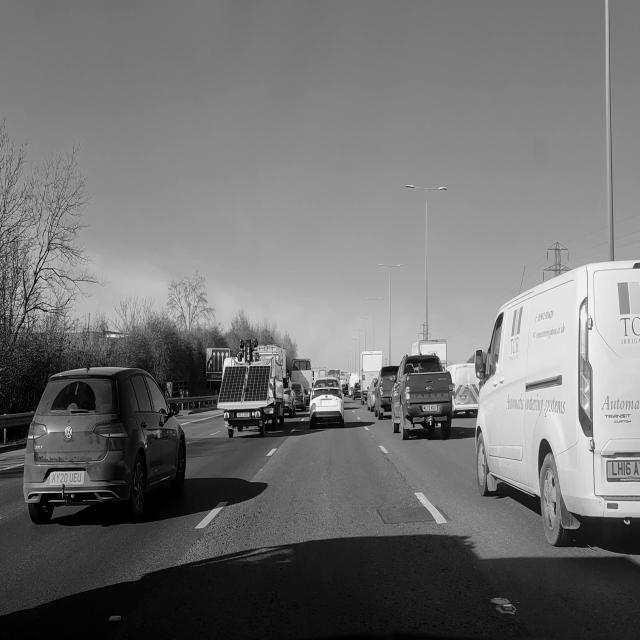car: (475, 261, 639, 545), (24, 368, 186, 523), (392, 351, 455, 445), (310, 379, 344, 429), (447, 363, 479, 416), (375, 366, 397, 419), (283, 378, 295, 417), (292, 383, 307, 410), (367, 378, 377, 411)
